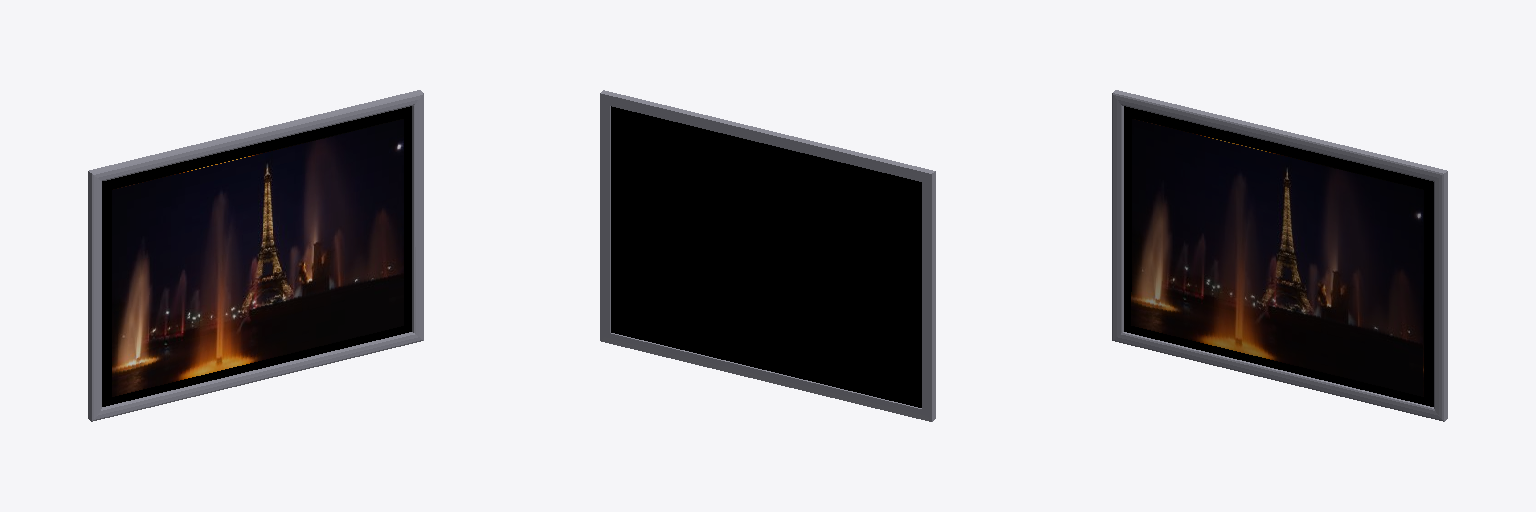
3 views of the same model, side by side, from view 1: azimuth 30°, elevation 25°; view 2: azimuth 150°, elevation 25°; view 3: azimuth 330°, elevation 25° (orthographic).
Visible parts, largest first — view 1: Photo_Cube_Material_EiffelTower.jpg, MetalFrame_Cylinder_Aluminium.002, Frame_Black_Material.003; view 2: Frame_Black_Material.003, MetalFrame_Cylinder_Aluminium.002; view 3: Photo_Cube_Material_EiffelTower.jpg, MetalFrame_Cylinder_Aluminium.002, Frame_Black_Material.003.
Part boxes in pixels (left/top/right/bottom): Photo_Cube_Material_EiffelTower.jpg: left=112, top=119, right=403, bottom=396; MetalFrame_Cylinder_Aluminium.002: left=88, top=90, right=423, bottom=421; Frame_Black_Material.003: left=102, top=106, right=411, bottom=406; Frame_Black_Material.003: left=611, top=106, right=921, bottom=407; MetalFrame_Cylinder_Aluminium.002: left=600, top=90, right=935, bottom=421; Photo_Cube_Material_EiffelTower.jpg: left=1131, top=119, right=1423, bottom=396; MetalFrame_Cylinder_Aluminium.002: left=1112, top=90, right=1447, bottom=421; Frame_Black_Material.003: left=1124, top=106, right=1433, bottom=406.
Size of the model in its own units: 67 by 47.86 by 1.6.
3 materials, 1 textured.